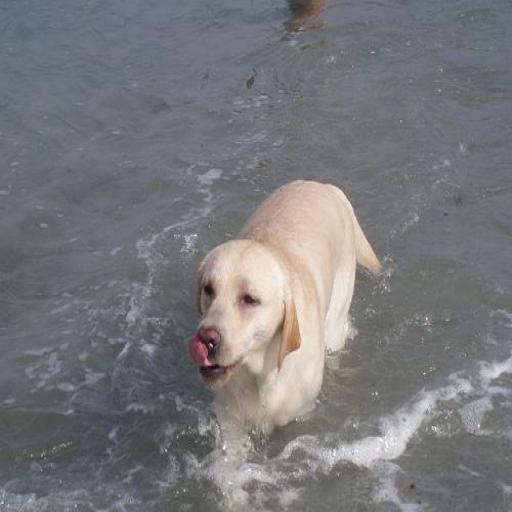dog_face: (198, 246, 300, 385)
